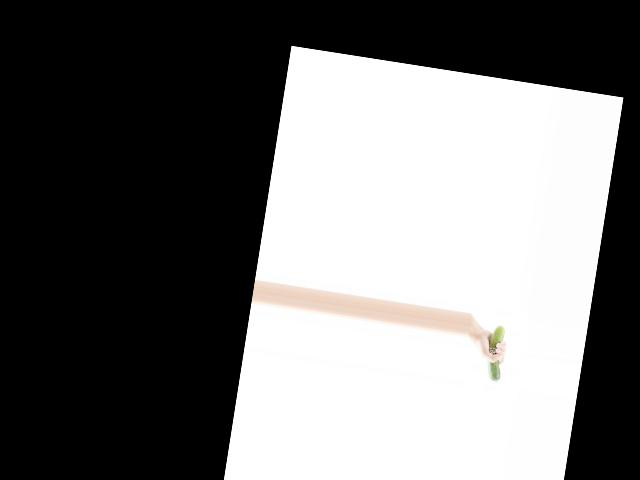cucumber: (483, 324, 508, 382)
